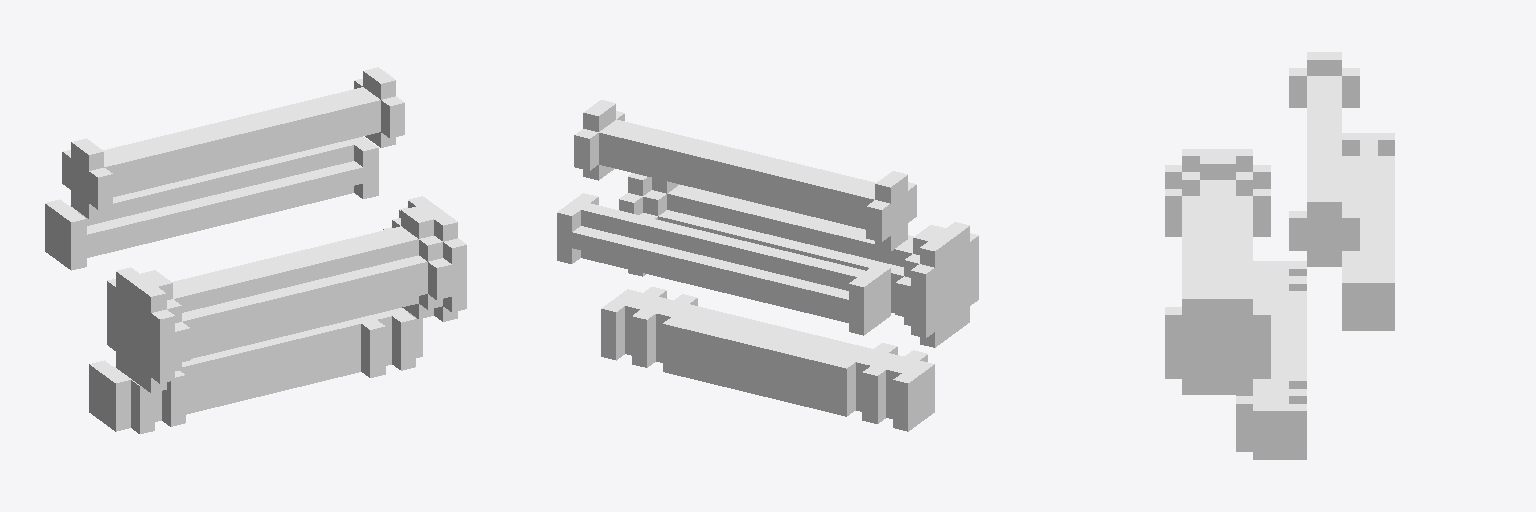
File: assets01_copia03-1.obj
3 views of the same model, side by side, from view 1: azimuth 30°, elevation 25°; view 2: azimuth 150°, elevation 25°; view 3: azimuth 270°, elevation 25° (orthographic).
Visible parts, largest first — view 1: object 1; view 2: object 1; view 3: object 1.
Boxes of the visible parts, box(x1,y1,x2,y2) form: object 1: box(45, 67, 466, 433); object 1: box(557, 100, 978, 431); object 1: box(1165, 52, 1394, 459).
Bounding box in the file's own units: 2 × 1.6 × 1.3.